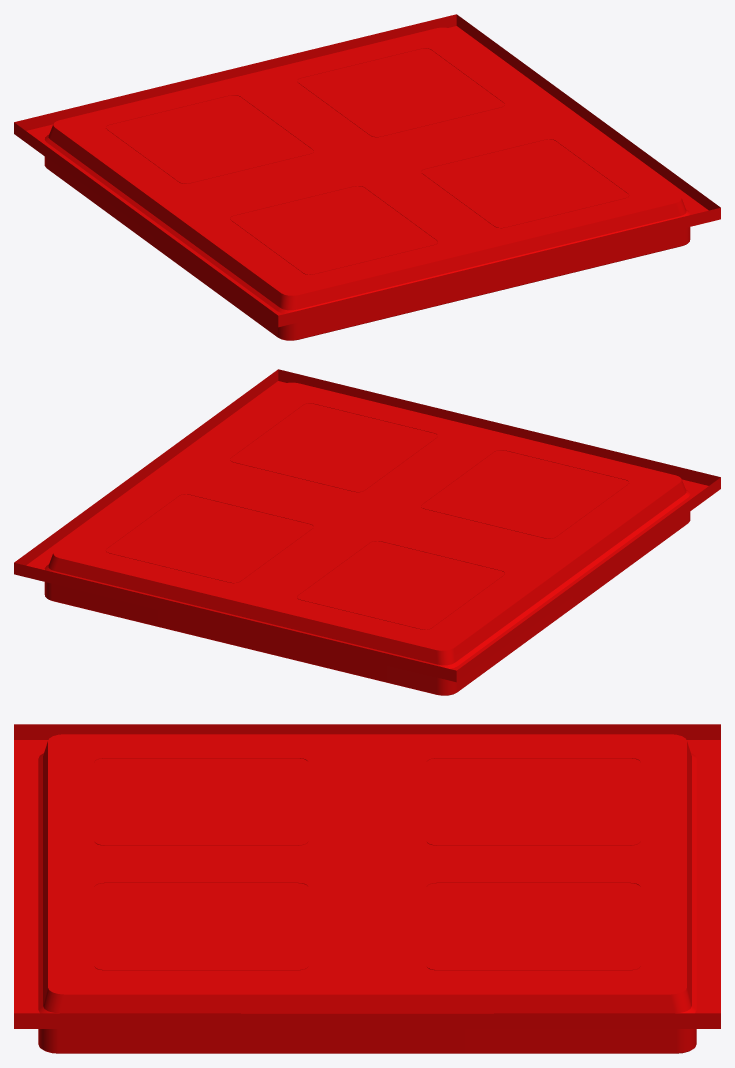
File: Ceiling_13.fbx
3 views of the same model, one above another, from view 1: azimuth 30°, elevation 25°; view 2: azimuth 150°, elevation 25°; view 3: azimuth 270°, elevation 25° (orthographic). The views are drawn at different scales.
Parts seen in each view (by area): view 1: polySurface2597; view 2: polySurface2597; view 3: polySurface2597.
Part boxes in pixels (x1,y1,x2,y2): polySurface2597: (14,14,720,340); polySurface2597: (14,369,720,695); polySurface2597: (14,724,720,1053).
Bounding box in the file's own units: 364 × 32.92 × 376.
